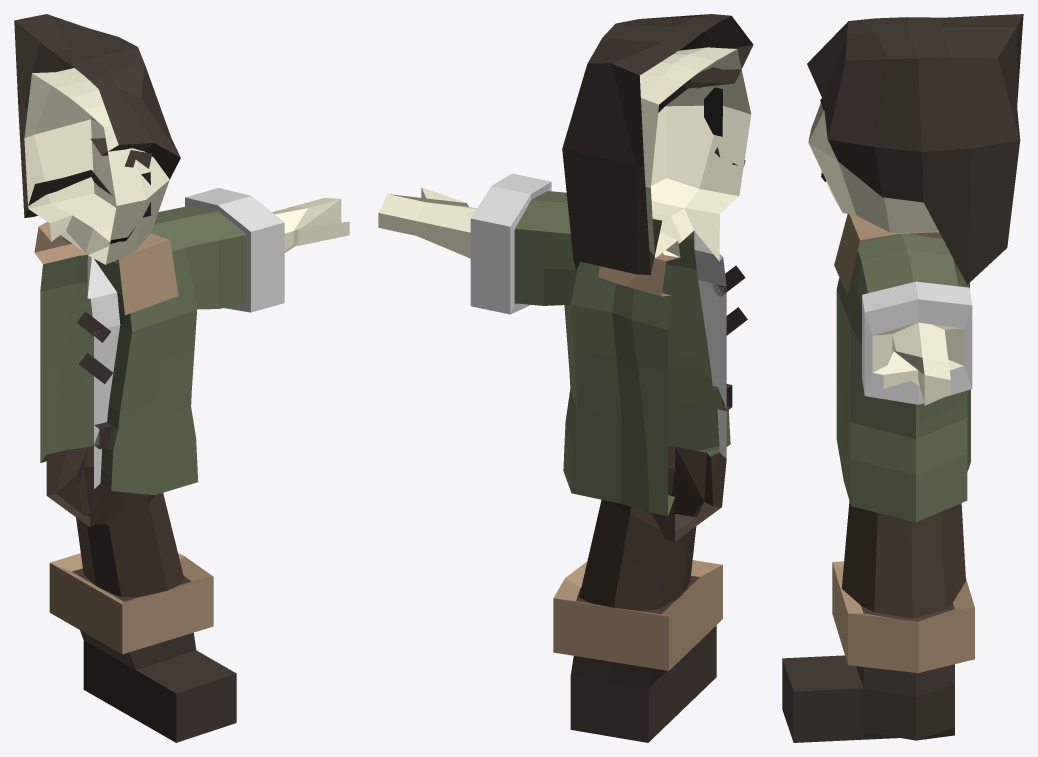
File: Forest Drift Charachter.glb
The picture shows the model from 3 angles, left to right: view 1: azimuth 30°, elevation 25°; view 2: azimuth 150°, elevation 25°; view 3: azimuth 270°, elevation 25°; orthographic projection. The views are drawn at different scales.
Parts seen in each view (by area): view 1: Cube.002; view 2: Cube.002; view 3: Cube.002.
Part boxes in pixels (x1,y1,x2,y2): Cube.002: [14, 14, 349, 742]; Cube.002: [378, 14, 753, 742]; Cube.002: [782, 14, 1023, 742].
Size of the model in its own units: 8.71 by 18.24 by 5.91.
